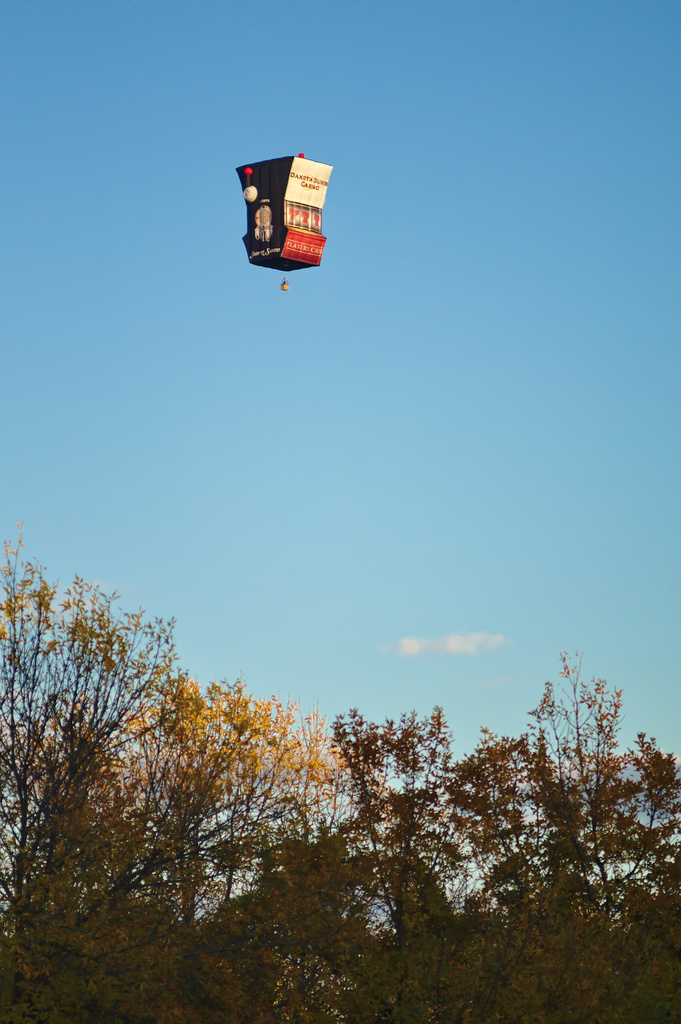Tree: (0, 537, 680, 1023)
